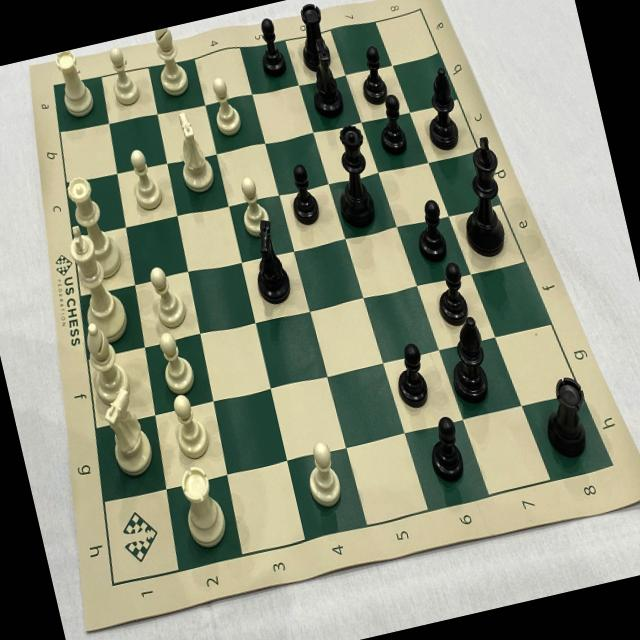black-bishop: (438, 315, 496, 408), (414, 62, 468, 154)
black-king: (445, 130, 520, 264)
black-knight: (241, 213, 295, 308), (297, 34, 349, 121)
black-pawn: (386, 338, 434, 416), (421, 411, 469, 488), (427, 260, 474, 328), (369, 92, 412, 162), (408, 196, 452, 264), (281, 161, 322, 229), (248, 14, 289, 80), (350, 42, 391, 107)
black-queen: (322, 120, 382, 232)
black-rook: (531, 366, 598, 467), (288, 0, 335, 74)
white-bishop: (76, 315, 132, 407), (146, 24, 193, 99)
white-king: (60, 217, 134, 350)
white-knight: (93, 379, 157, 478), (165, 107, 216, 196)
white-pawn: (165, 388, 212, 462), (296, 436, 344, 508), (100, 38, 144, 112), (201, 70, 246, 142), (153, 328, 199, 396), (230, 171, 274, 242), (122, 143, 166, 213), (144, 261, 188, 330)
white-queen: (59, 168, 128, 286)
white-rook: (171, 458, 233, 556), (48, 46, 99, 122)
